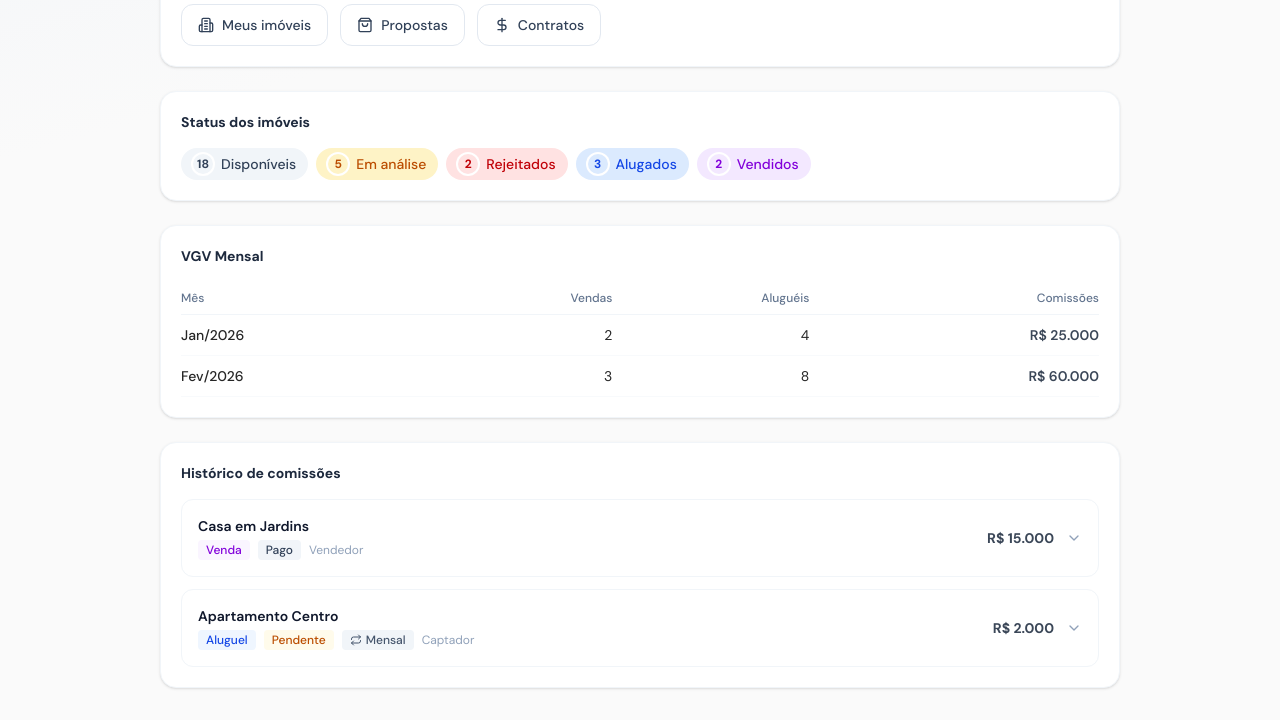
Test case: Reports Page - Integration › expands commission tile to show details
(page scrolled)
Expected: the text "Casa em Jardins" is shown, [198,517,309,535]
Click the button "Casa em Jardins".
click(254, 526)  # box [182,500,1098,576]
(page scrolled)
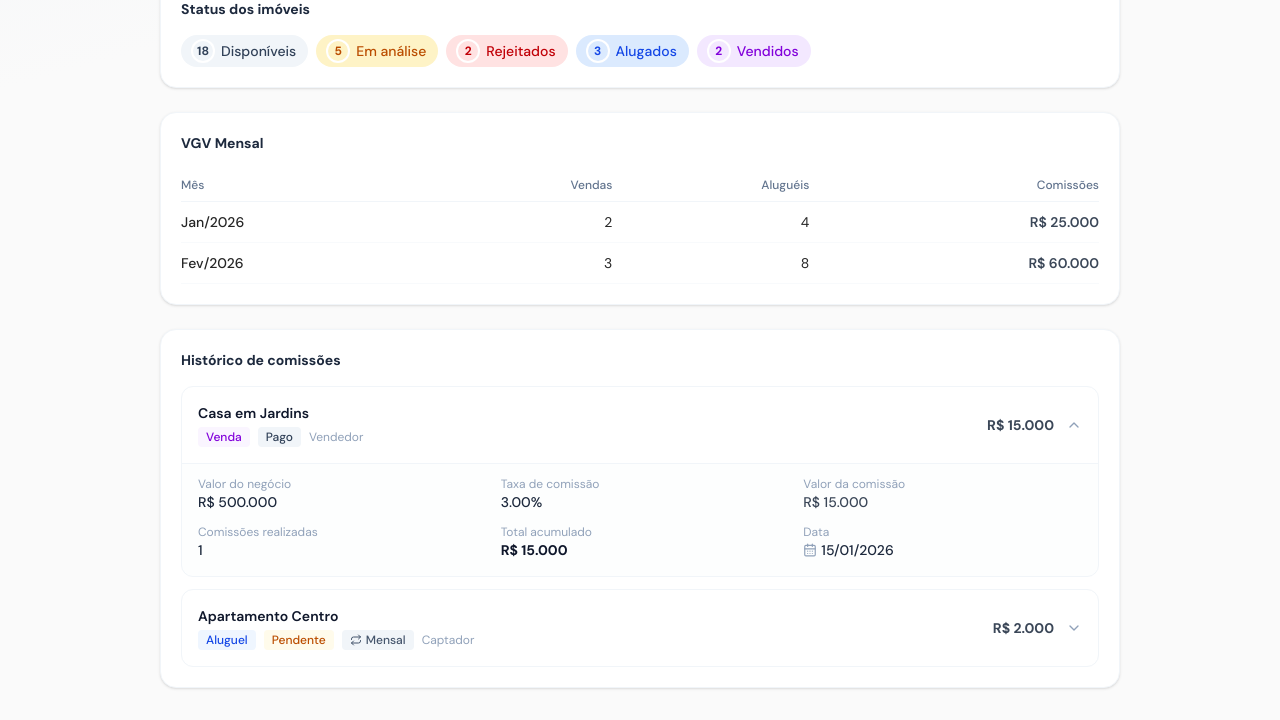
Expected: the text "Valor do negócio" is shown, [198,476,291,492]
Expected: the text "Taxa de comissão" is shown, [501,476,600,492]
Expected: the text "3.00%" is shown, [501,493,542,511]
